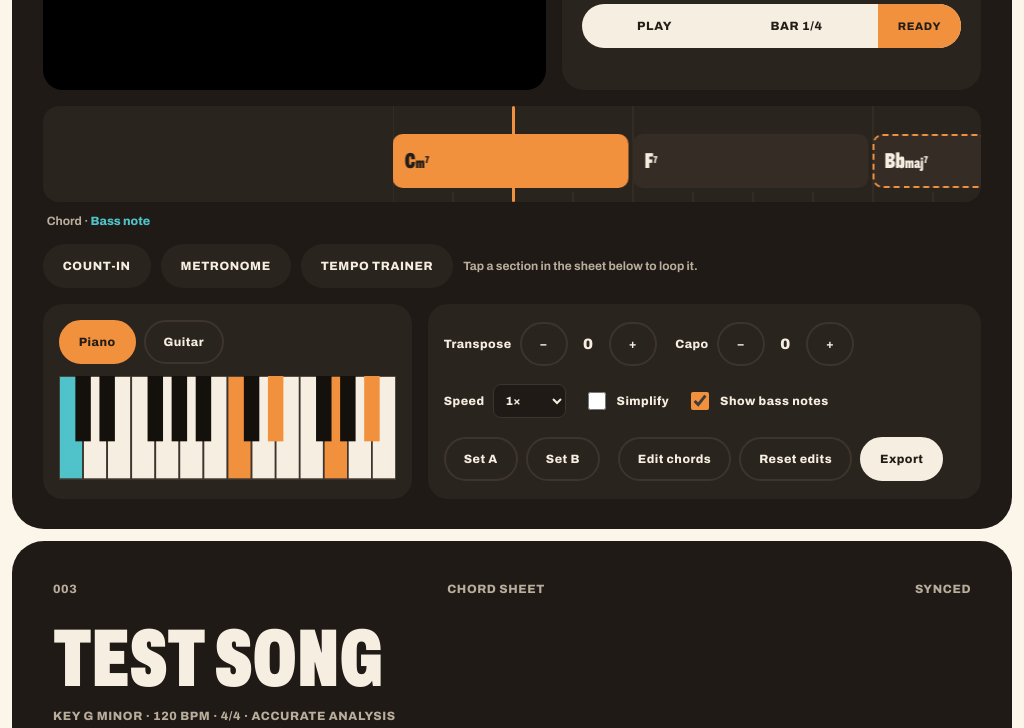
TrackerPage › re-spells chords when transposing
(page scrolled)
Click the button named "Transpose up" at (633, 344), box 609,322 -> 657,366
(page scrolled)
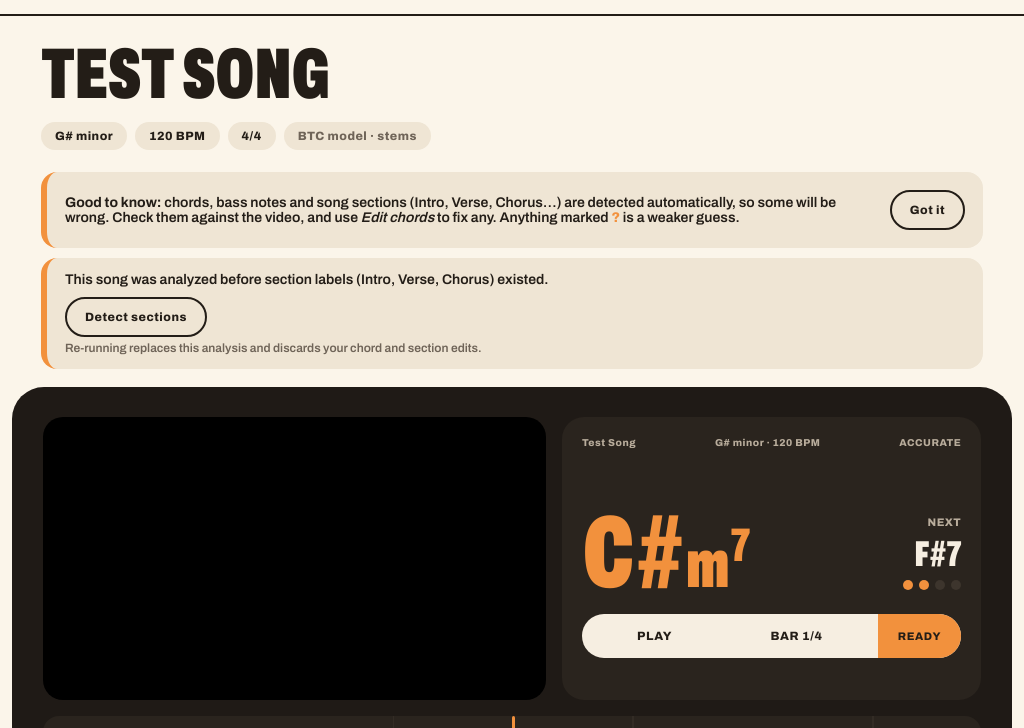
Now the element with test id "current-chord" reads "C# m 7", box 582,512 -> 750,596
Now the text "G# minor" is shown, box 41,122 -> 127,150
